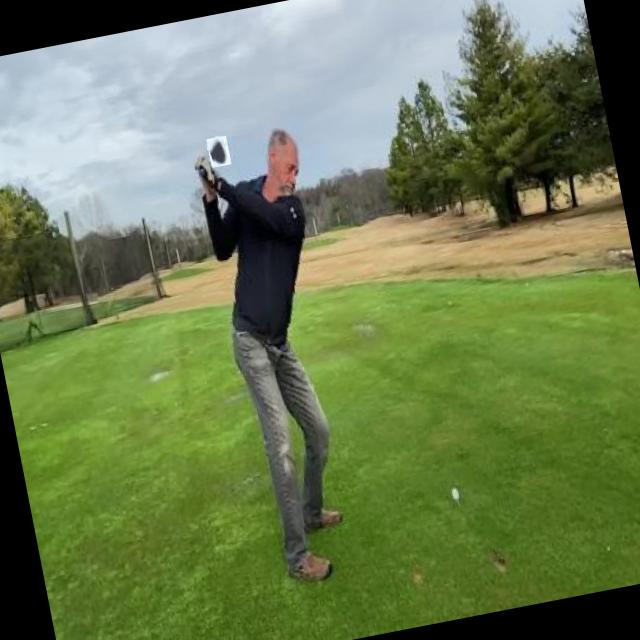club head: (206, 136, 232, 168)
